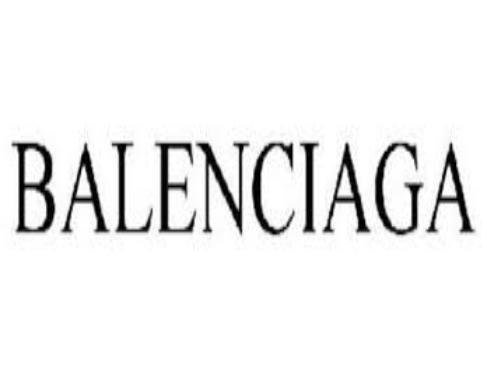BALENCIAGA: (6, 130, 477, 237)
